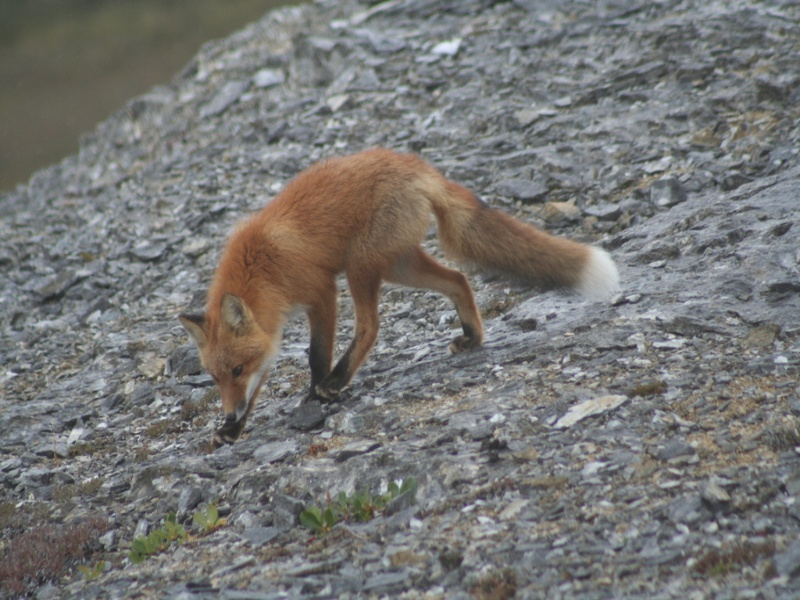fox: (175, 146, 621, 448)
